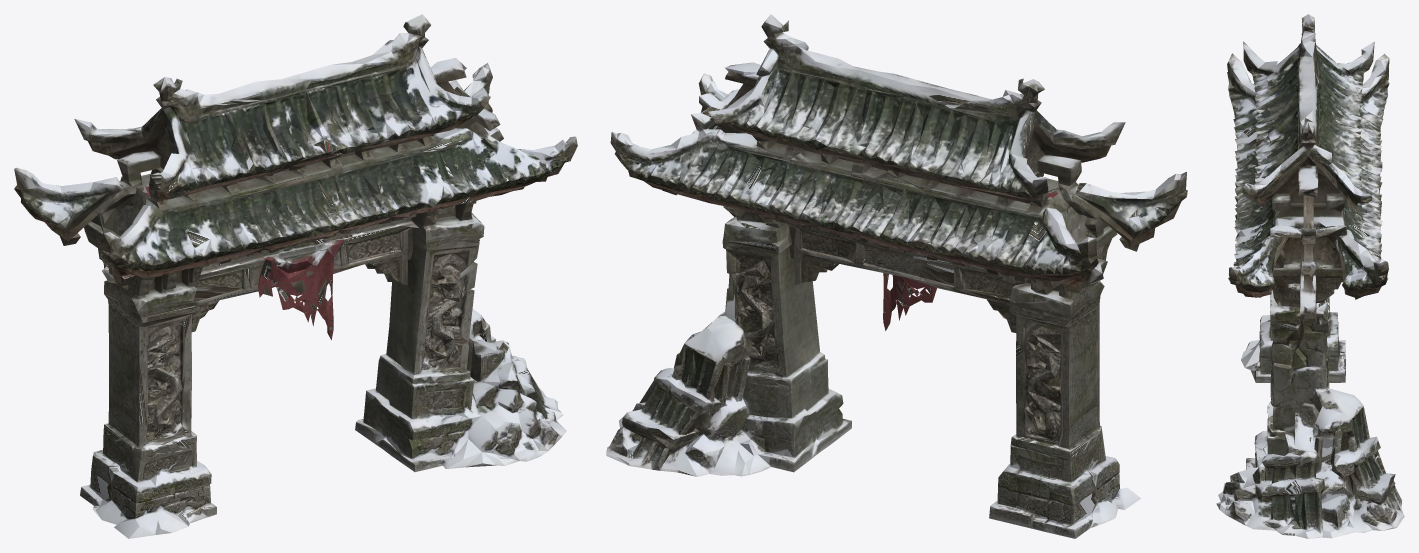
Rendered from prop_broken_gate.30959213.glb.
The picture shows the model from 3 angles, left to right: view 1: azimuth 30°, elevation 25°; view 2: azimuth 150°, elevation 25°; view 3: azimuth 270°, elevation 25°; orthographic projection. The views are drawn at different scales.
Parts seen in each view (by area): view 1: tripo_node_bcc6ca7a-a5df-43fe-a75c-c56cc6d90f06; view 2: tripo_node_bcc6ca7a-a5df-43fe-a75c-c56cc6d90f06; view 3: tripo_node_bcc6ca7a-a5df-43fe-a75c-c56cc6d90f06.
Boxes of the visible parts, <box> form: tripo_node_bcc6ca7a-a5df-43fe-a75c-c56cc6d90f06: <box>14,14,577,538</box>; tripo_node_bcc6ca7a-a5df-43fe-a75c-c56cc6d90f06: <box>606,14,1187,538</box>; tripo_node_bcc6ca7a-a5df-43fe-a75c-c56cc6d90f06: <box>1216,14,1404,538</box>.
Size of the model in its own units: 9.89 by 7.97 by 3.76.
1 material, 1 textured.
